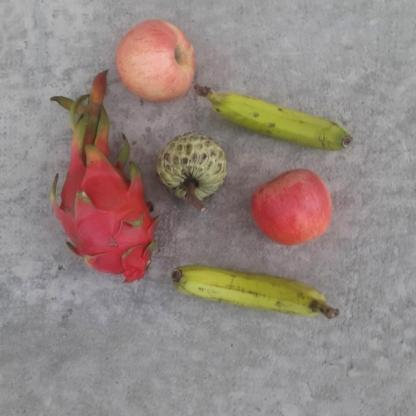annona: (154, 127, 228, 202)
apple: (112, 17, 197, 101), (250, 166, 333, 245)
banana: (195, 78, 350, 150), (169, 260, 342, 320)
pitaya: (44, 127, 154, 281)
